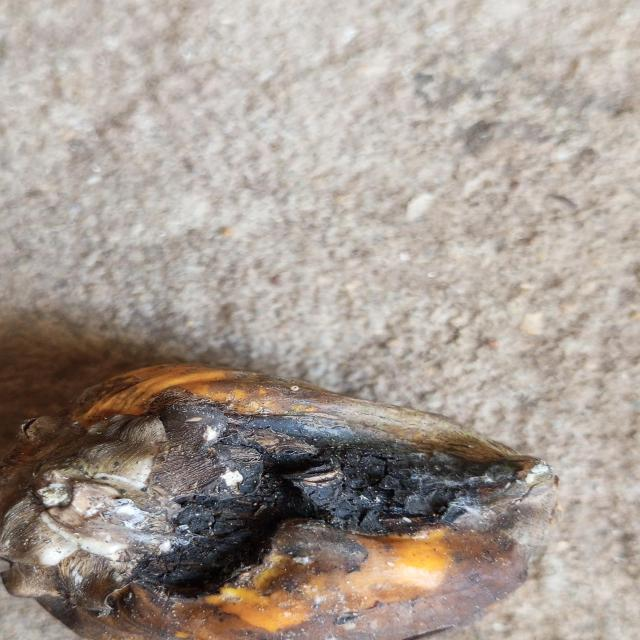damaged: (0, 365, 556, 640)
